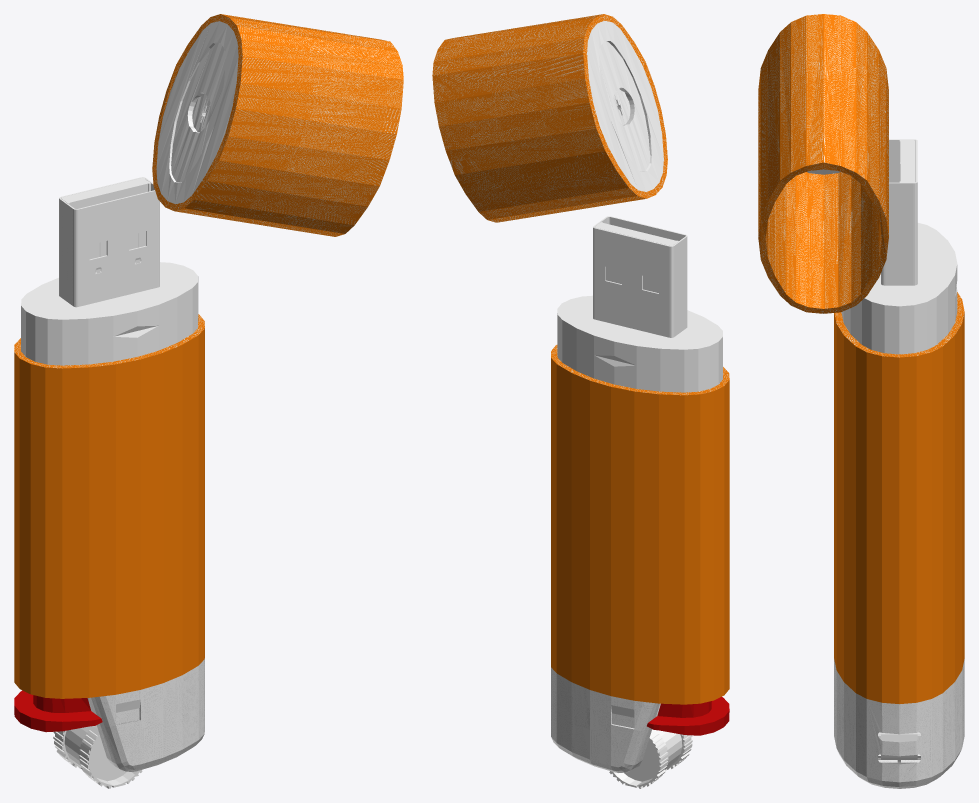
3 renders of one model, left to right at view 1: azimuth 30°, elevation 25°; view 2: azimuth 150°, elevation 25°; view 3: azimuth 270°, elevation 25°, orthographic. The views are drawn at different scales.
Visible parts, largest first — view 1: usb lighter; view 2: usb lighter; view 3: usb lighter.
Part boxes in pixels (left/top/right/bottom): usb lighter: left=14, top=14, right=403, bottom=788; usb lighter: left=432, top=14, right=729, bottom=788; usb lighter: left=758, top=14, right=964, bottom=788.
Bounding box in the file's own units: 1.84 × 3.98 × 0.9332.
